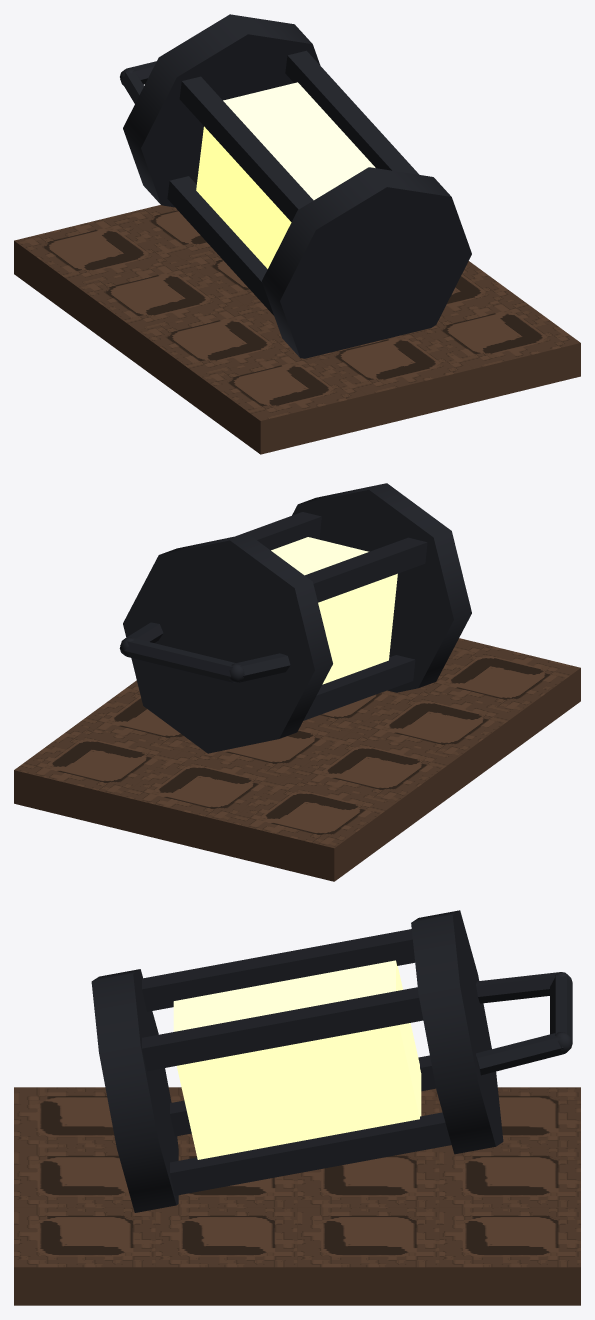
Rendered from SunkenLantern.glb.
3 views of the same model, one above another, from view 1: azimuth 30°, elevation 25°; view 2: azimuth 150°, elevation 25°; view 3: azimuth 270°, elevation 25° (orthographic). The views are drawn at different scales.
Visible parts, largest first — view 1: SunkenLantern, SunkenLantern_Glow; view 2: SunkenLantern, SunkenLantern_Glow; view 3: SunkenLantern, SunkenLantern_Glow.
Boxes of the visible parts, x1,y1,x2,y2 form: SunkenLantern: (14,14,580,454); SunkenLantern_Glow: (196,82,375,268); SunkenLantern: (14,483,580,881); SunkenLantern_Glow: (271,537,397,684); SunkenLantern: (14,910,580,1305); SunkenLantern_Glow: (173,960,421,1159).
Bounding box in the file's own units: 3 × 2.34 × 4.
Materials: 2 (1 with a texture image).
